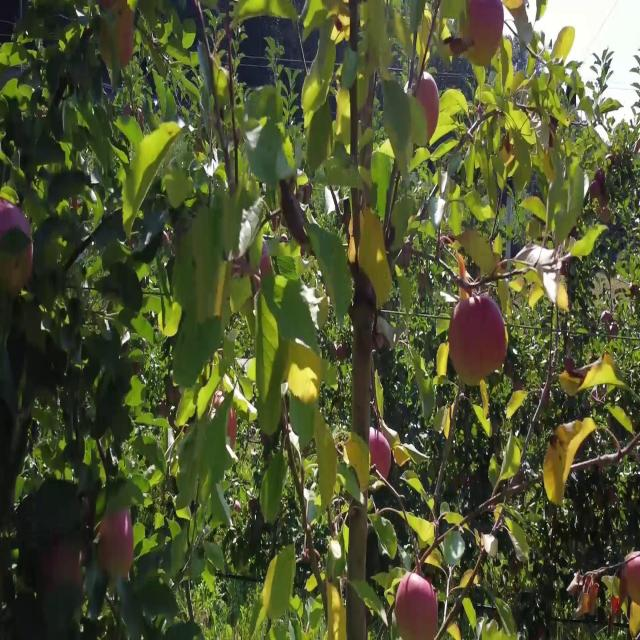apple: (448, 291, 508, 389), (0, 199, 35, 299), (392, 575, 440, 639), (448, 305, 483, 389), (96, 511, 136, 580), (96, 0, 136, 69), (474, 298, 508, 377), (0, 227, 35, 299), (356, 206, 388, 281), (44, 540, 87, 594), (288, 341, 324, 405), (468, 0, 504, 62), (360, 255, 394, 311), (412, 78, 440, 142), (482, 312, 508, 375), (4, 199, 31, 244), (368, 263, 393, 311), (448, 15, 473, 59), (252, 248, 274, 297), (452, 357, 483, 391), (372, 433, 392, 482), (560, 355, 582, 398), (352, 300, 375, 340), (624, 554, 640, 603), (472, 42, 499, 71), (500, 135, 518, 176), (76, 547, 88, 596), (344, 440, 363, 469), (436, 341, 450, 380), (584, 583, 600, 617), (592, 170, 608, 201), (507, 7, 528, 27), (504, 0, 525, 20), (228, 405, 239, 443), (560, 284, 571, 313), (612, 597, 625, 620), (168, 383, 181, 405), (632, 604, 640, 638)
